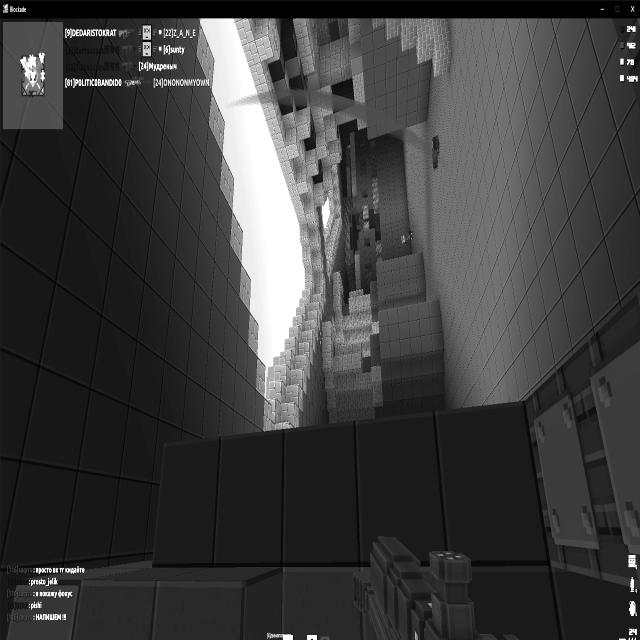Head: (401, 233, 406, 244)
Player: (399, 233, 415, 244)
